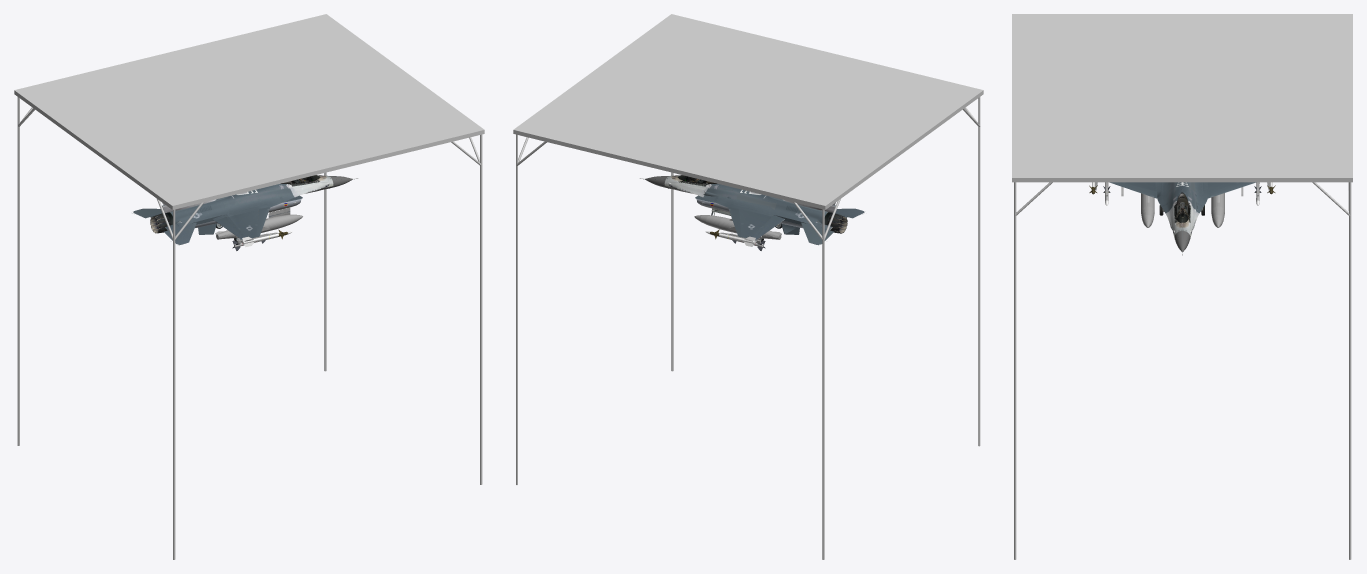
File: waf16cbanker1.glb
The picture shows the model from 3 angles, left to right: view 1: azimuth 30°, elevation 25°; view 2: azimuth 150°, elevation 25°; view 3: azimuth 270°, elevation 25°; orthographic projection. The views are drawn at different scales.
Visible parts, largest first — view 1: 立方体, 円柱.002; view 2: 立方体, 円柱.002; view 3: 立方体, 円柱.002.
Part boxes in pixels (bbox=[...]): 立方体: bbox=[14, 14, 484, 559]; 円柱.002: bbox=[132, 175, 357, 250]; 立方体: bbox=[513, 14, 983, 559]; 円柱.002: bbox=[640, 175, 864, 250]; 立方体: bbox=[1012, 14, 1352, 559]; 円柱.002: bbox=[1089, 182, 1275, 255].
Size of the model in its own units: 23.44 by 25.49 by 20.58.
Materials: 23 (8 with a texture image).
